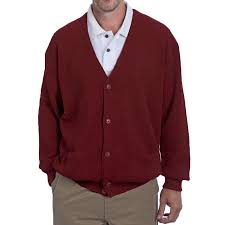S_cardigan sweater: (32, 11, 190, 193)
